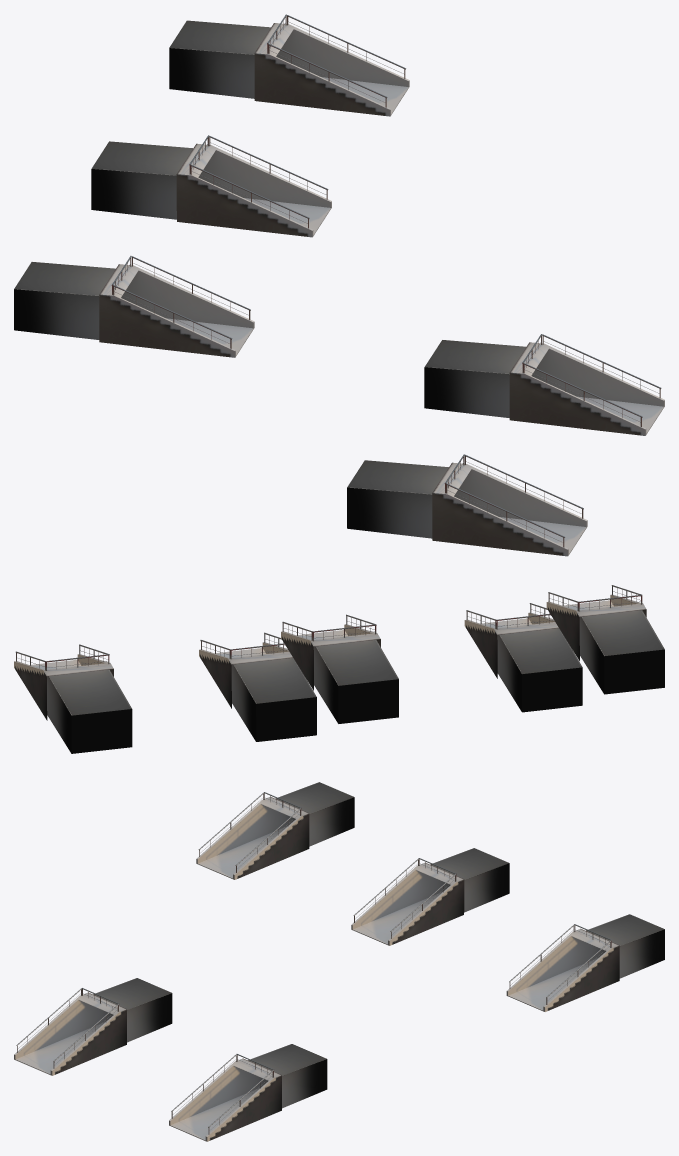
File: Entrance_Right.fbx
The picture shows the model from 3 angles, top to bottom: view 1: azimuth 30°, elevation 25°; view 2: azimuth 150°, elevation 25°; view 3: azimuth 270°, elevation 25°; orthographic projection. The views are drawn at different scales.
Parts seen in each view (by area): view 1: Entrance_Right; view 2: Entrance_Right; view 3: Entrance_Right.
Part boxes in pixels (x1,y1,x2,y2): Entrance_Right: (14,14,664,556); Entrance_Right: (14,585,664,753); Entrance_Right: (14,782,664,1141).
Bounding box in the file's own units: 1599 × 581 × 2103.
Materials: 1 (1 with a texture image).
